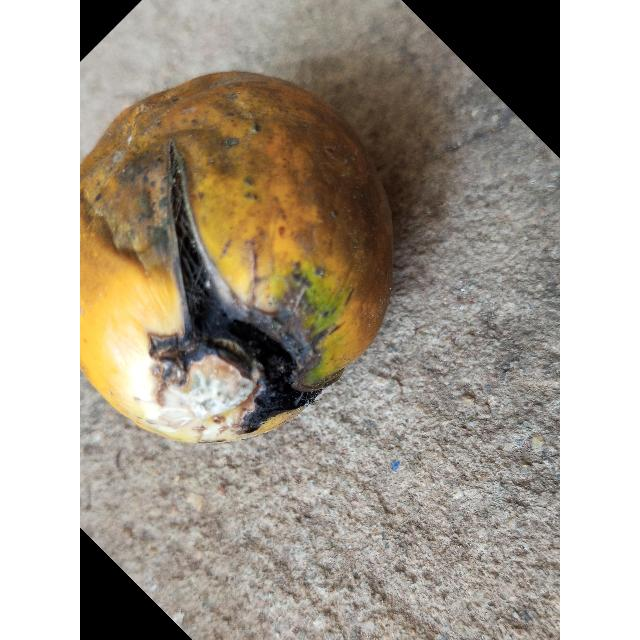damaged: (80, 71, 394, 448)
